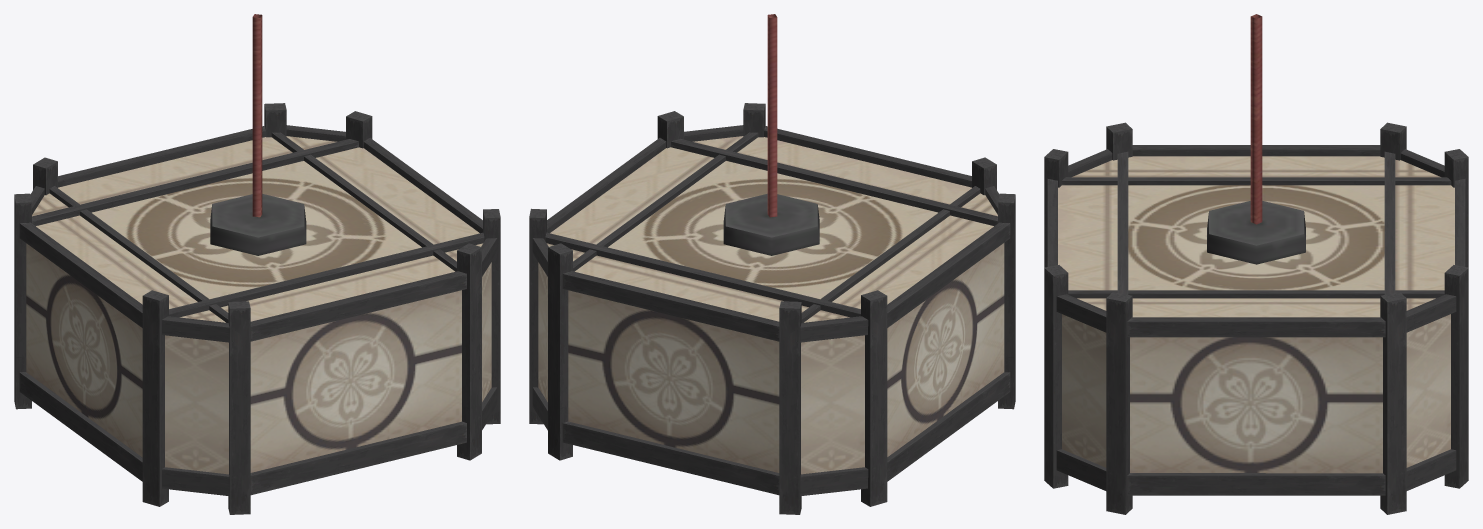
File: Homeworld_Interior_Dq_Lamp_Lamp_07_Vo.fbx
The picture shows the model from 3 angles, left to right: view 1: azimuth 30°, elevation 25°; view 2: azimuth 150°, elevation 25°; view 3: azimuth 270°, elevation 25°; orthographic projection. The views are drawn at different scales.
Visible parts, largest first — view 1: Indoor_Dq_Prop_Comp_Lamp_05_Vo; view 2: Indoor_Dq_Prop_Comp_Lamp_05_Vo; view 3: Indoor_Dq_Prop_Comp_Lamp_05_Vo.
Boxes of the visible parts, left/top/right/bottom form: Indoor_Dq_Prop_Comp_Lamp_05_Vo: left=14, top=14, right=500, bottom=514; Indoor_Dq_Prop_Comp_Lamp_05_Vo: left=529, top=14, right=1015, bottom=514; Indoor_Dq_Prop_Comp_Lamp_05_Vo: left=1044, top=14, right=1468, bottom=514.
Size of the model in its own units: 0.9465 by 1.01 by 0.9465.
